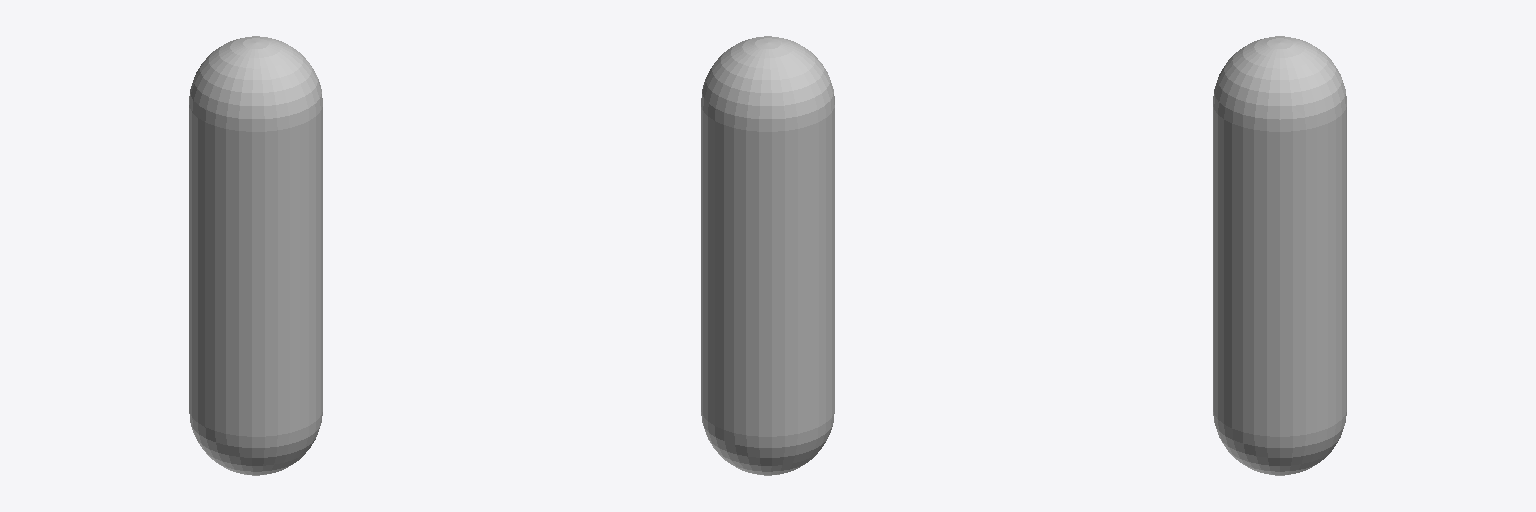
Rendered from capsule_thin.obj.
3 renders of one model, left to right at view 1: azimuth 30°, elevation 25°; view 2: azimuth 150°, elevation 25°; view 3: azimuth 270°, elevation 25°, orthographic.
Visible parts, largest first — view 1: Sphere; view 2: Sphere; view 3: Sphere.
Boxes of the visible parts, x1,y1,x2,y2 form: Sphere: [189, 36, 322, 475]; Sphere: [701, 36, 834, 475]; Sphere: [1213, 36, 1346, 475].
Bounding box in the file's own units: 0.4 × 1.4 × 0.4.